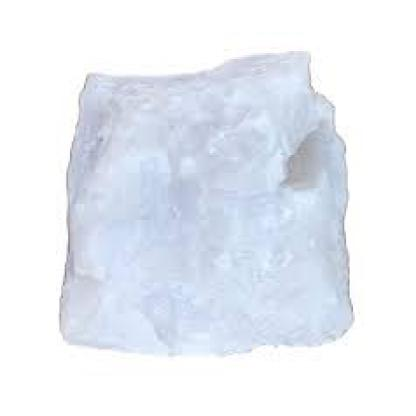Metamorphic_Quartize: (52, 49, 367, 363)
